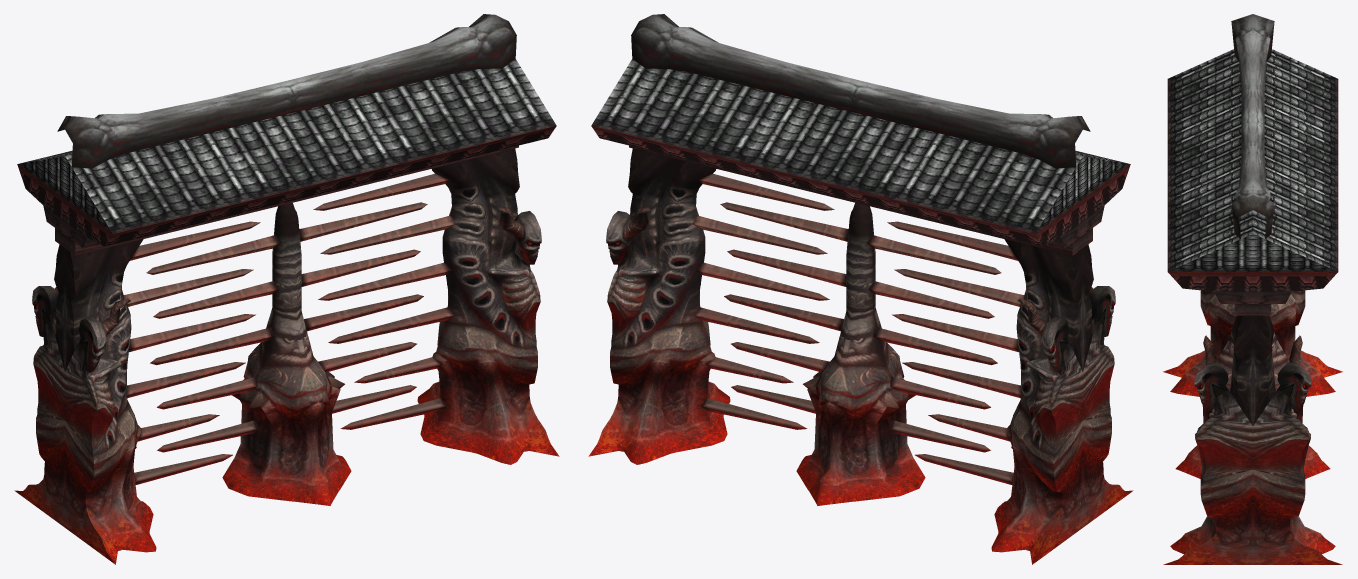
The model's file is otherworld_wall_02.glb.
3 views of the same model, side by side, from view 1: azimuth 30°, elevation 25°; view 2: azimuth 150°, elevation 25°; view 3: azimuth 270°, elevation 25° (orthographic). The views are drawn at different scales.
Parts seen in each view (by area): view 1: otherworld_wall_02; view 2: otherworld_wall_02; view 3: otherworld_wall_02.
Part boxes in pixels (x1=…): otherworld_wall_02: x1=14, y1=14, x2=559, y2=564; otherworld_wall_02: x1=588, y1=14, x2=1133, y2=564; otherworld_wall_02: x1=1163, y1=14, x2=1342, y2=564.
Size of the model in its own units: 10.01 by 8.8 by 3.96.
Materials: 4 (4 with a texture image).
